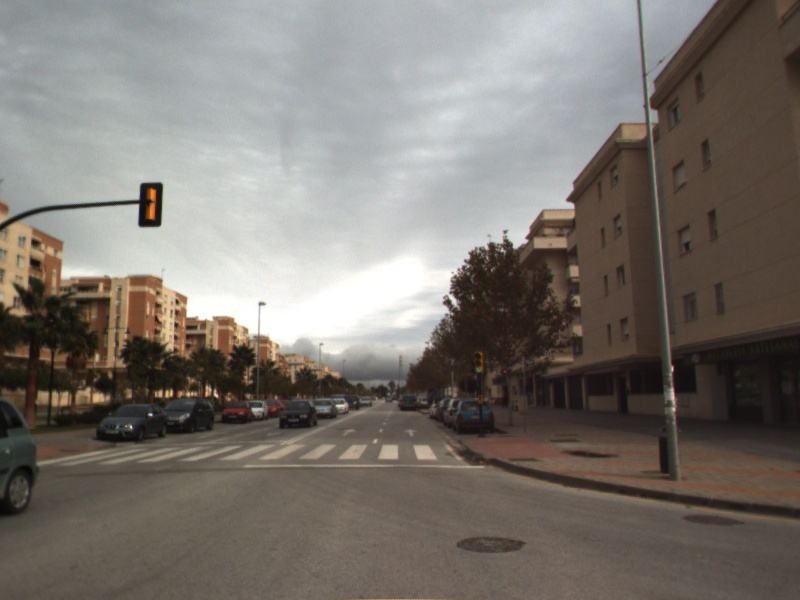STRAIGHT: (339, 427, 358, 438), (402, 427, 419, 438)
